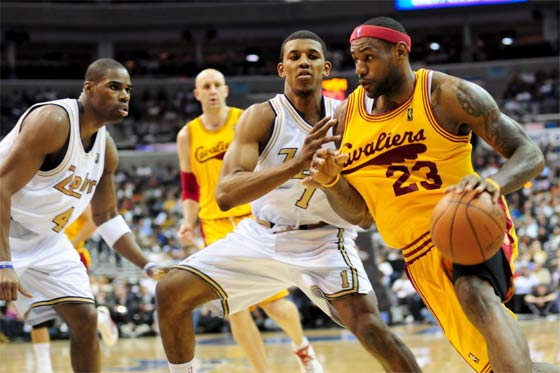basketball: (432, 187, 504, 263)
